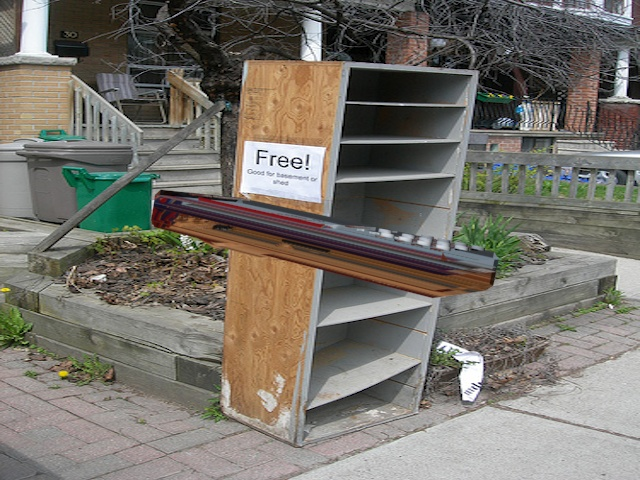mobile_phone: (144, 177, 512, 305)
